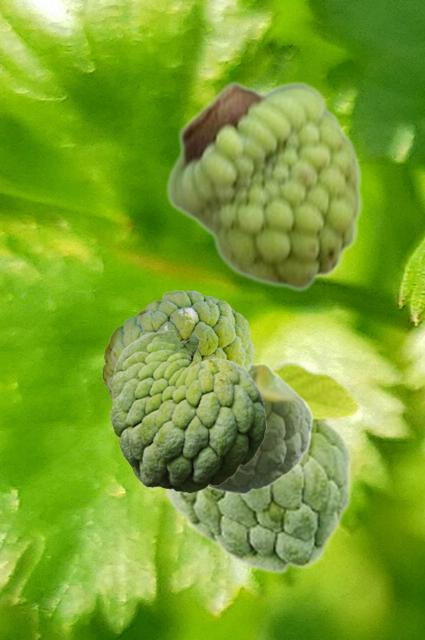atis: (163, 359, 362, 574), (166, 79, 363, 292), (110, 329, 265, 492), (102, 290, 253, 399), (208, 360, 313, 493)
